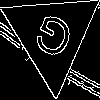G: (27, 11, 77, 70)
